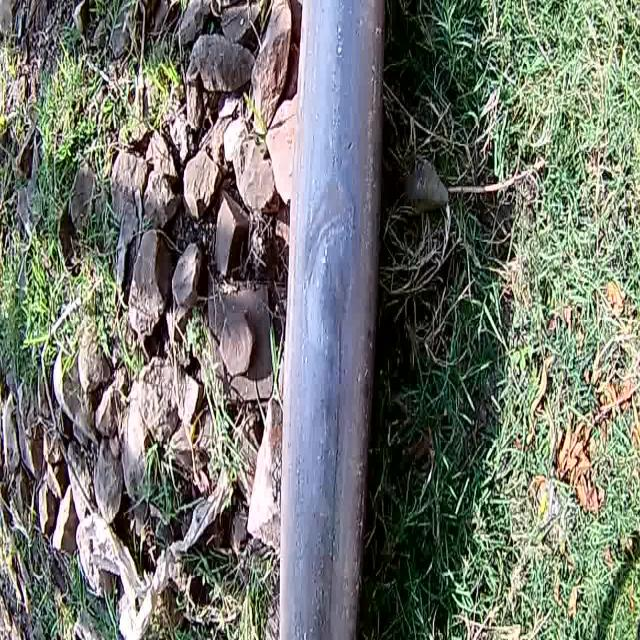Squats: (276, 159, 386, 379)
